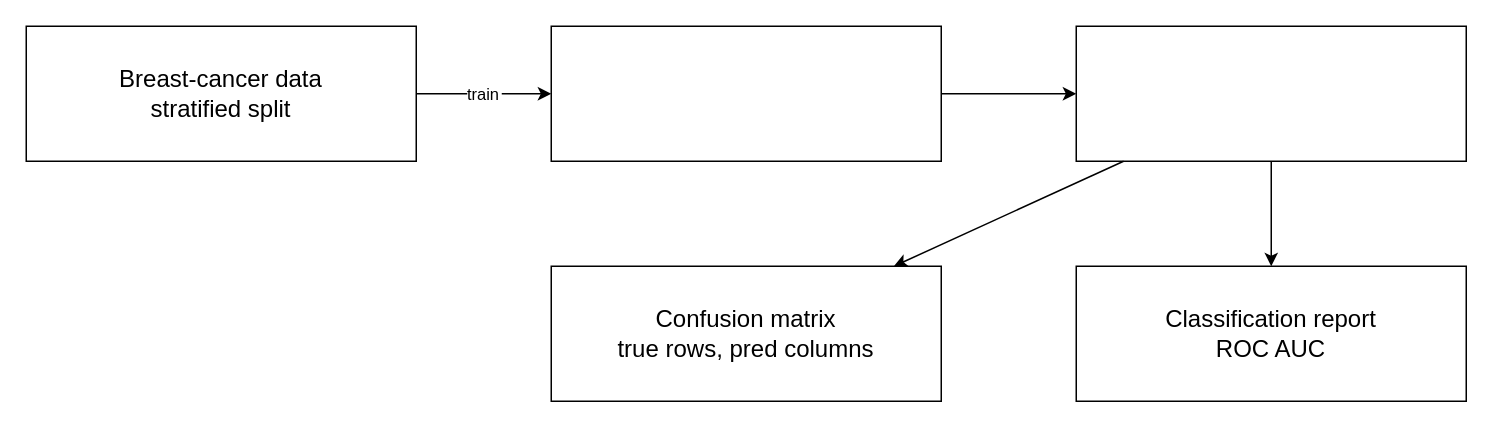
This 1493x428 diagram has some shape labels left out. Each missing label, with the centre of its shape:
"Test predictions and P(class 1)" belongs at point 1270,93.
"Training pipeline scale and logistic fit" belongs at point 745,93.
